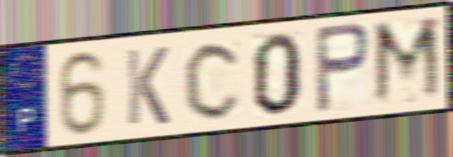0: (250, 30, 305, 118)
6: (56, 47, 108, 139)
C: (182, 38, 244, 123)
K: (123, 44, 172, 128)
M: (370, 14, 446, 110)
P: (312, 20, 373, 116)
